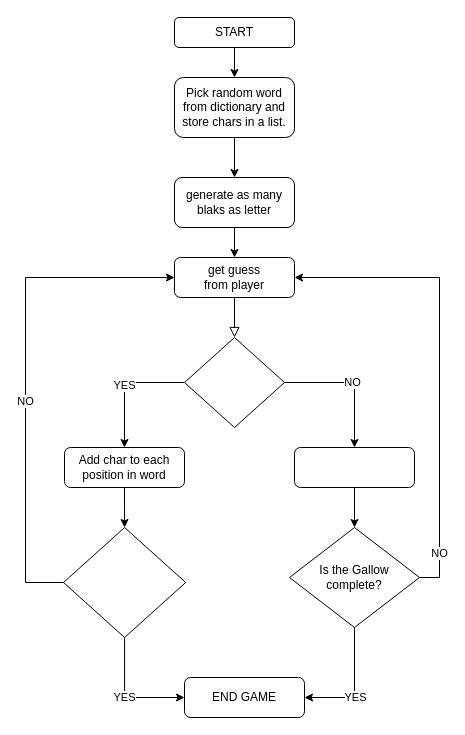
This 465x735 diagram has some shape labels left out. Here are the shapes that lost their labels. From the top down, the box of each, then its label:
(184, 336, 284, 428): Does guess match?
(294, 446, 414, 488): Build the Gallow
(62, 526, 186, 638): Is the word complete?
